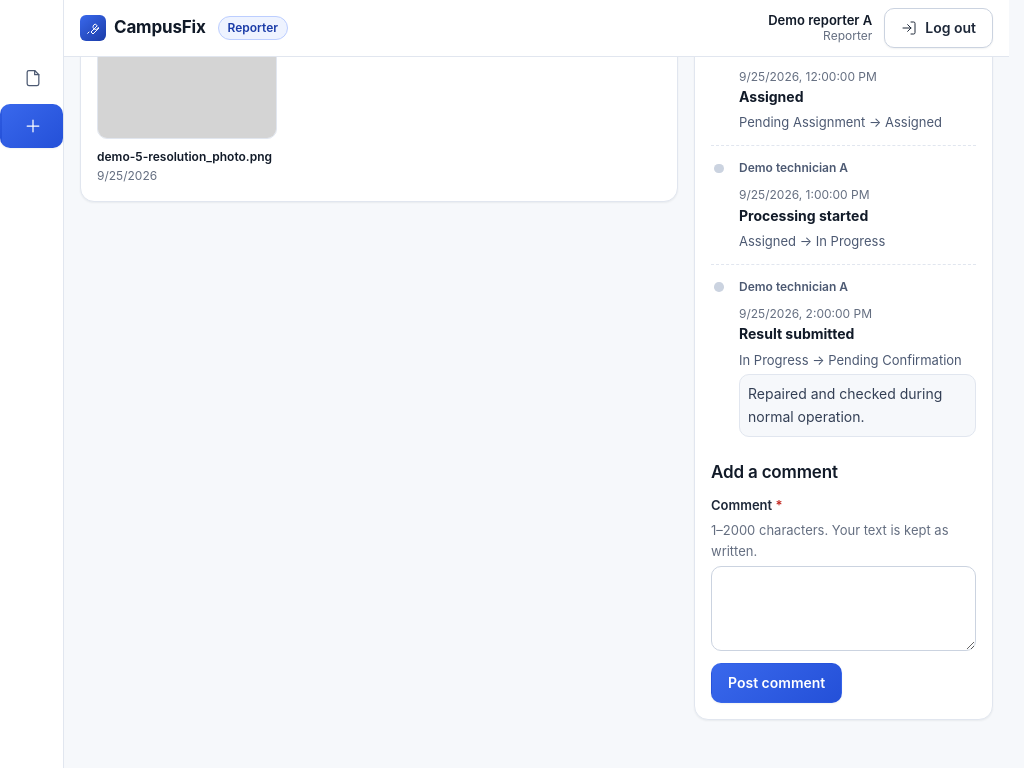
conversation on the shared detail (#54) › keeps a terminal-comment conflict visible without refreshing the detail
This screenshot has width=1024, height=768.
(page scrolled)
Type "Too late" into the text box labelled "Comment *".
click(844, 608); type("Too late")  # box [711,566,976,651]
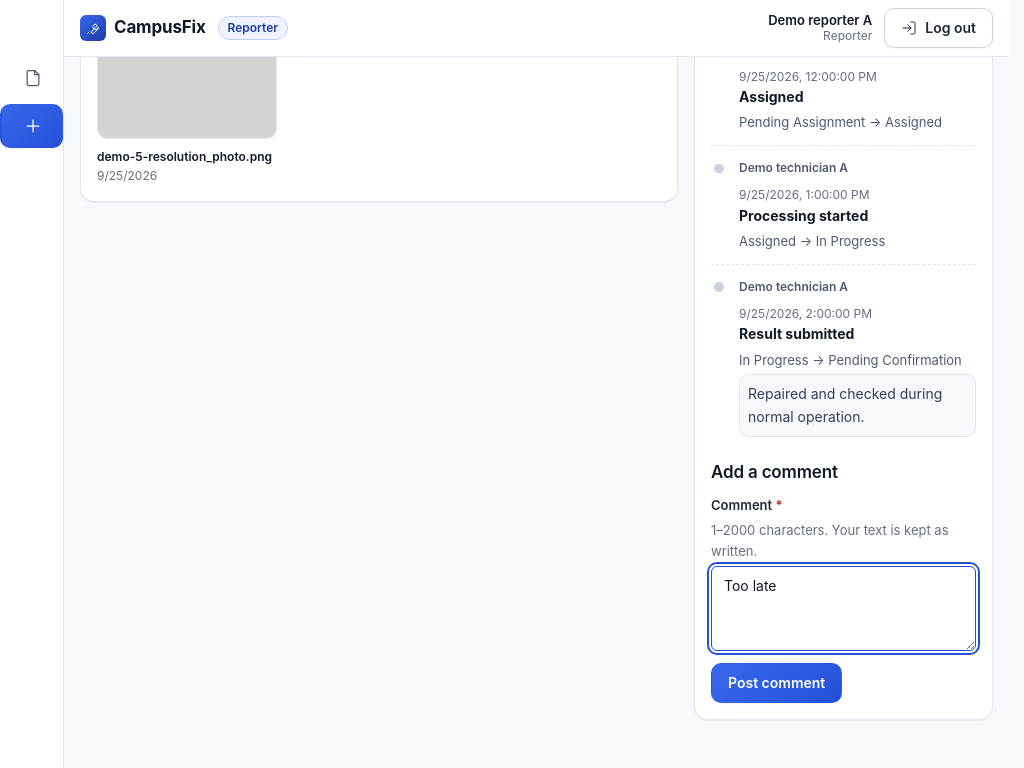
Click the button "Post comment".
click(777, 683)  # box [711,663,842,703]
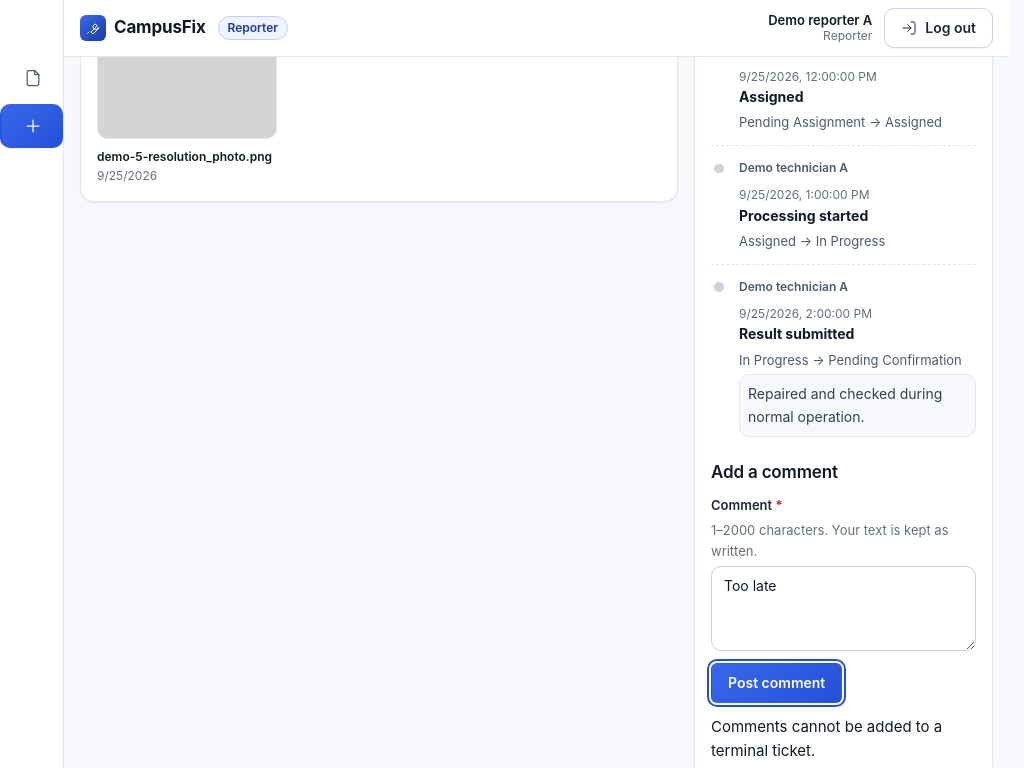
Check: the form "Add a comment" is shown, box [711,461,976,763]
Check: the message reads "Comments cannot be added to a terminal ticket.", box [711,717,942,760]
